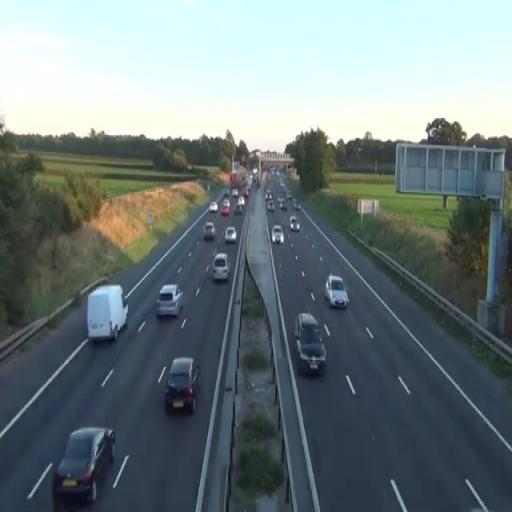Car: (52, 426, 116, 507), (164, 356, 201, 415), (294, 312, 326, 376), (154, 284, 184, 318), (324, 274, 350, 309), (210, 252, 230, 282), (202, 223, 216, 241), (224, 226, 237, 245), (272, 224, 283, 244), (221, 200, 231, 218), (209, 201, 218, 214)
Truck: (86, 285, 128, 342)
